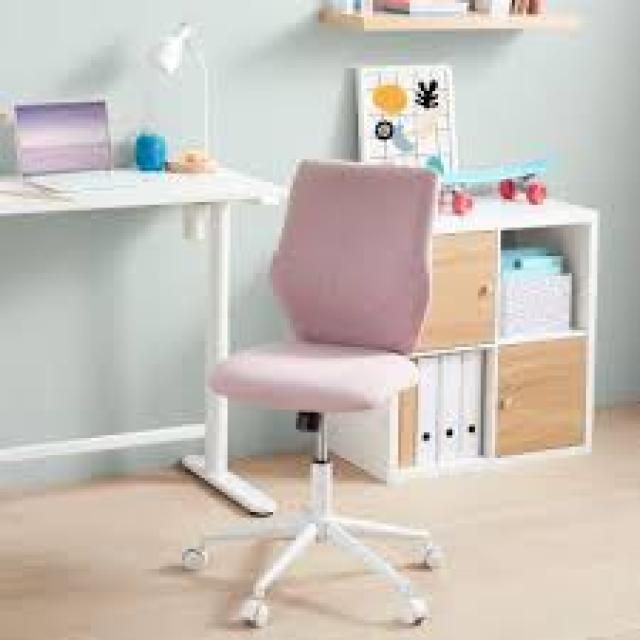chair: (142, 122, 467, 640)
